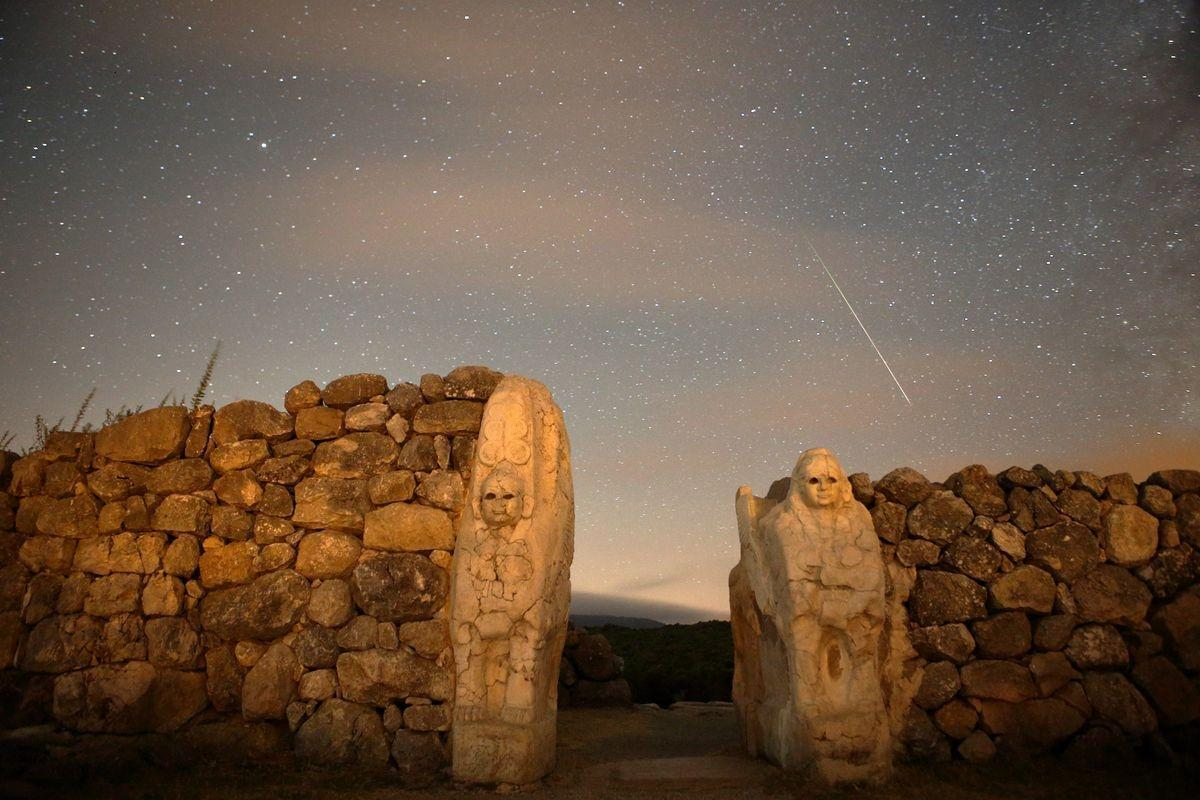meteorite: (790, 247, 941, 402)
